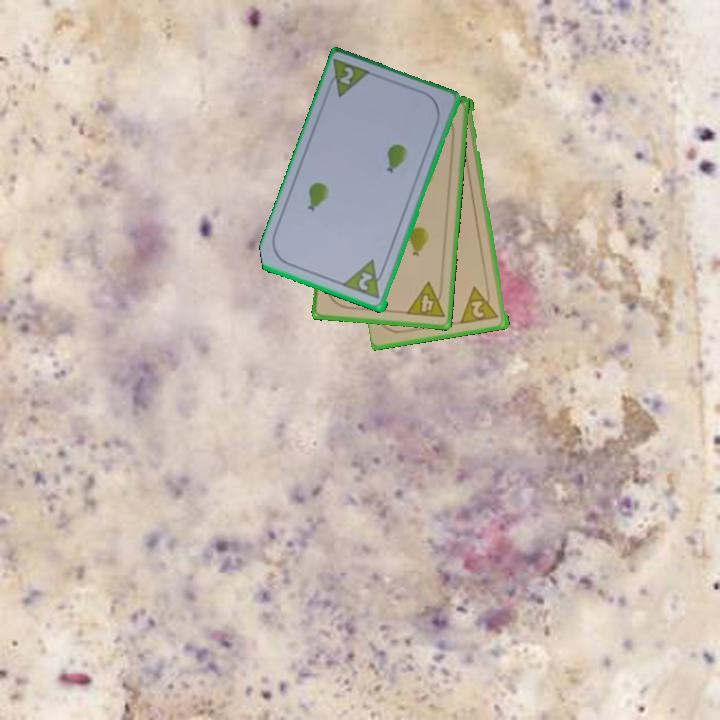2p: (323, 56, 375, 101), (341, 257, 389, 302), (458, 282, 503, 327)
4p: (403, 279, 447, 321)
